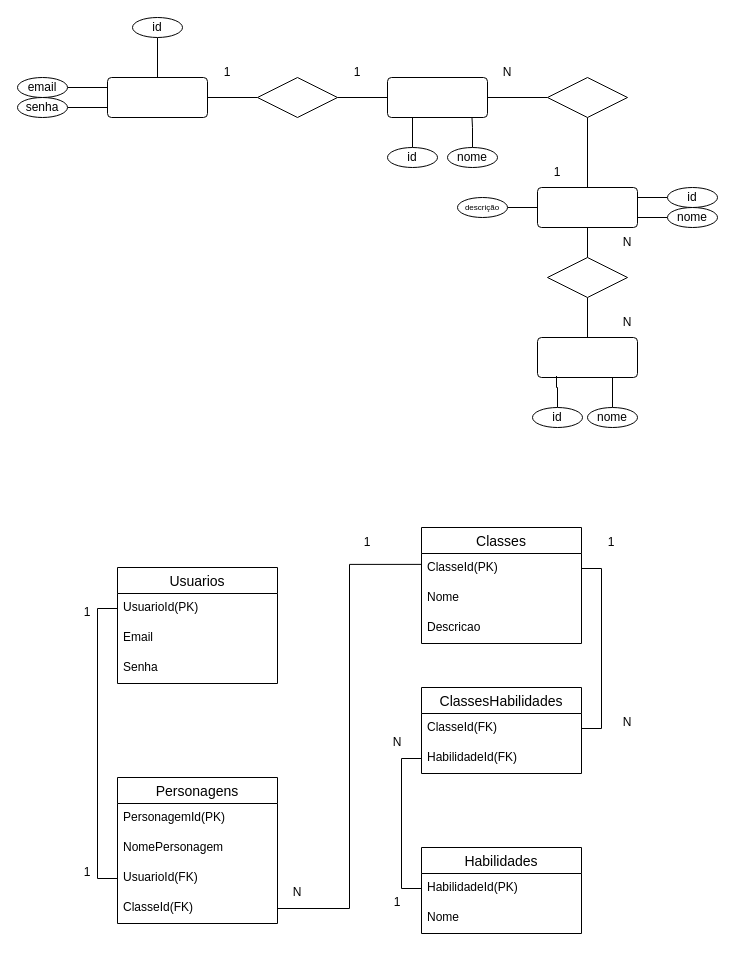
Some shapes in this 735 by 954 pixel diagram are drawn without their labels. Each missing label, with the centre of its shape:
"Classe" belongs at (x=587, y=207).
"Habilidade" belongs at (x=587, y=357).
"Personagem" belongs at (x=437, y=97).
"Usuário" belongs at (x=157, y=97).
